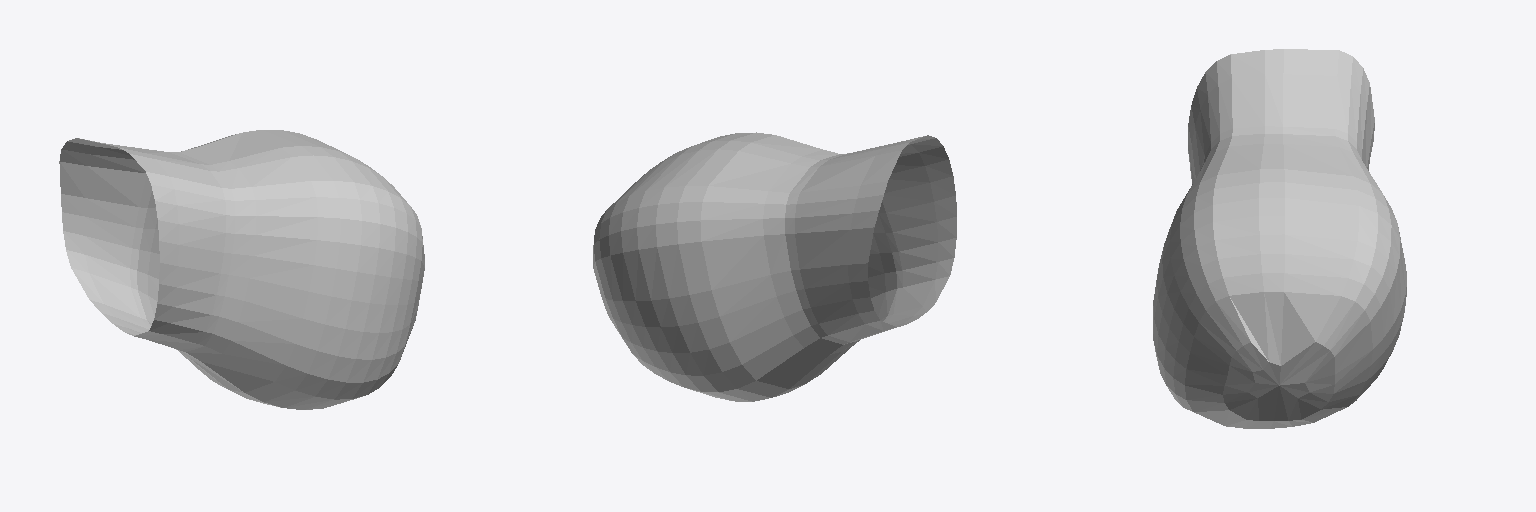
Rendered from brazoIzqMel.obj.
3 renders of one model, left to right at view 1: azimuth 30°, elevation 25°; view 2: azimuth 150°, elevation 25°; view 3: azimuth 270°, elevation 25°, orthographic.
Size of the model in its own units: 0.4754 by 0.4177 by 0.3428.